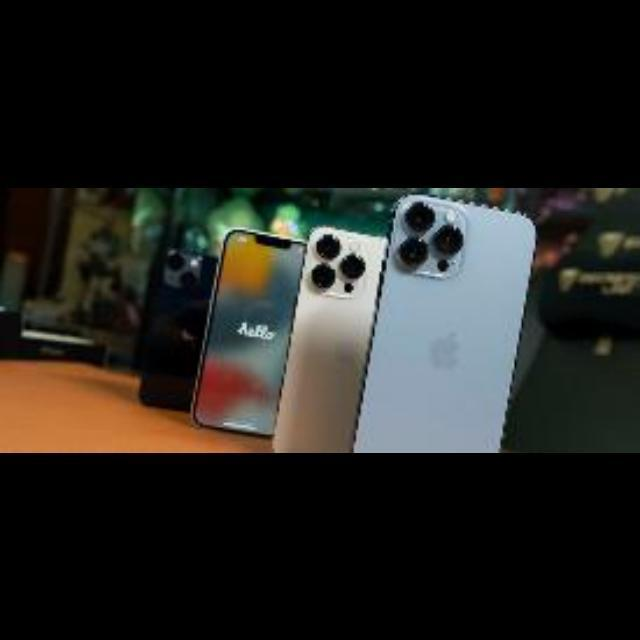PhoneUse: (372, 196, 540, 452), (198, 220, 304, 452), (302, 215, 386, 452), (140, 248, 218, 410)
